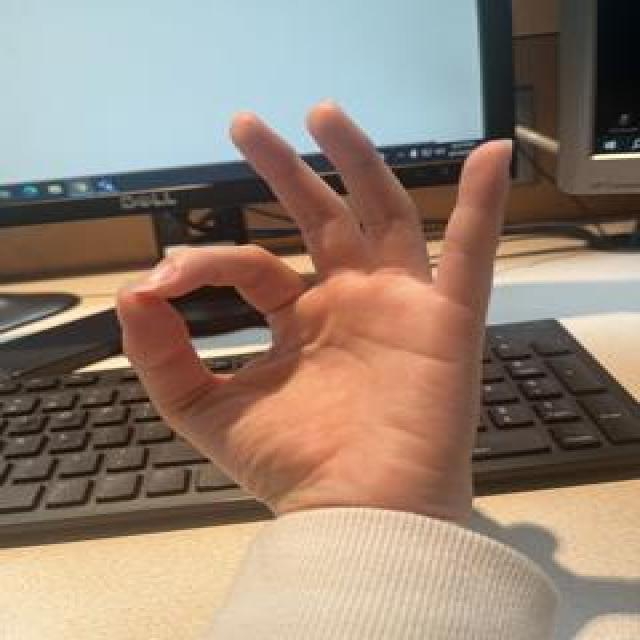F: (106, 98, 522, 510)
